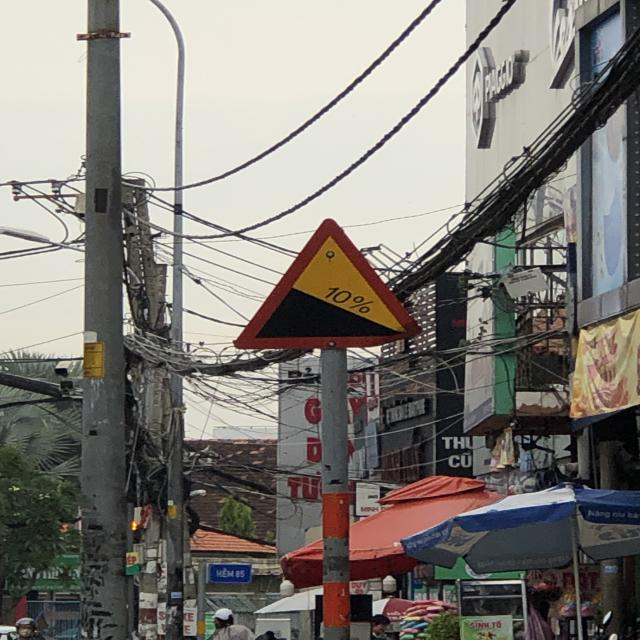Bien bao doc xuong nguy hiem: (230, 213, 430, 354)
